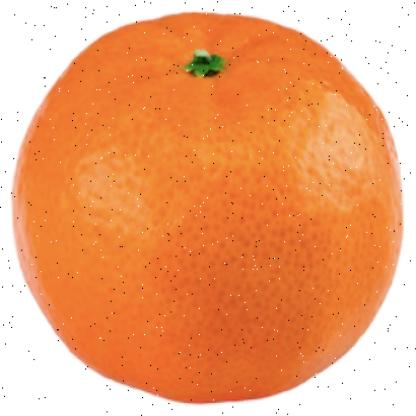fresh: (16, 13, 402, 405)
